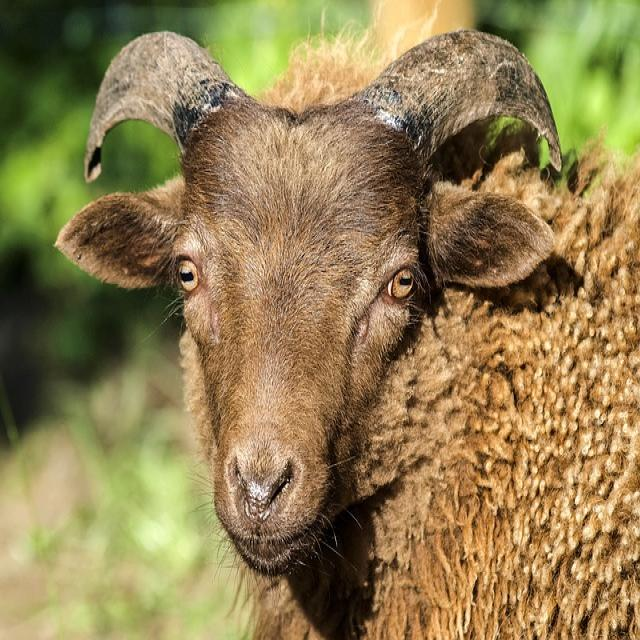goat: (54, 29, 640, 640)
